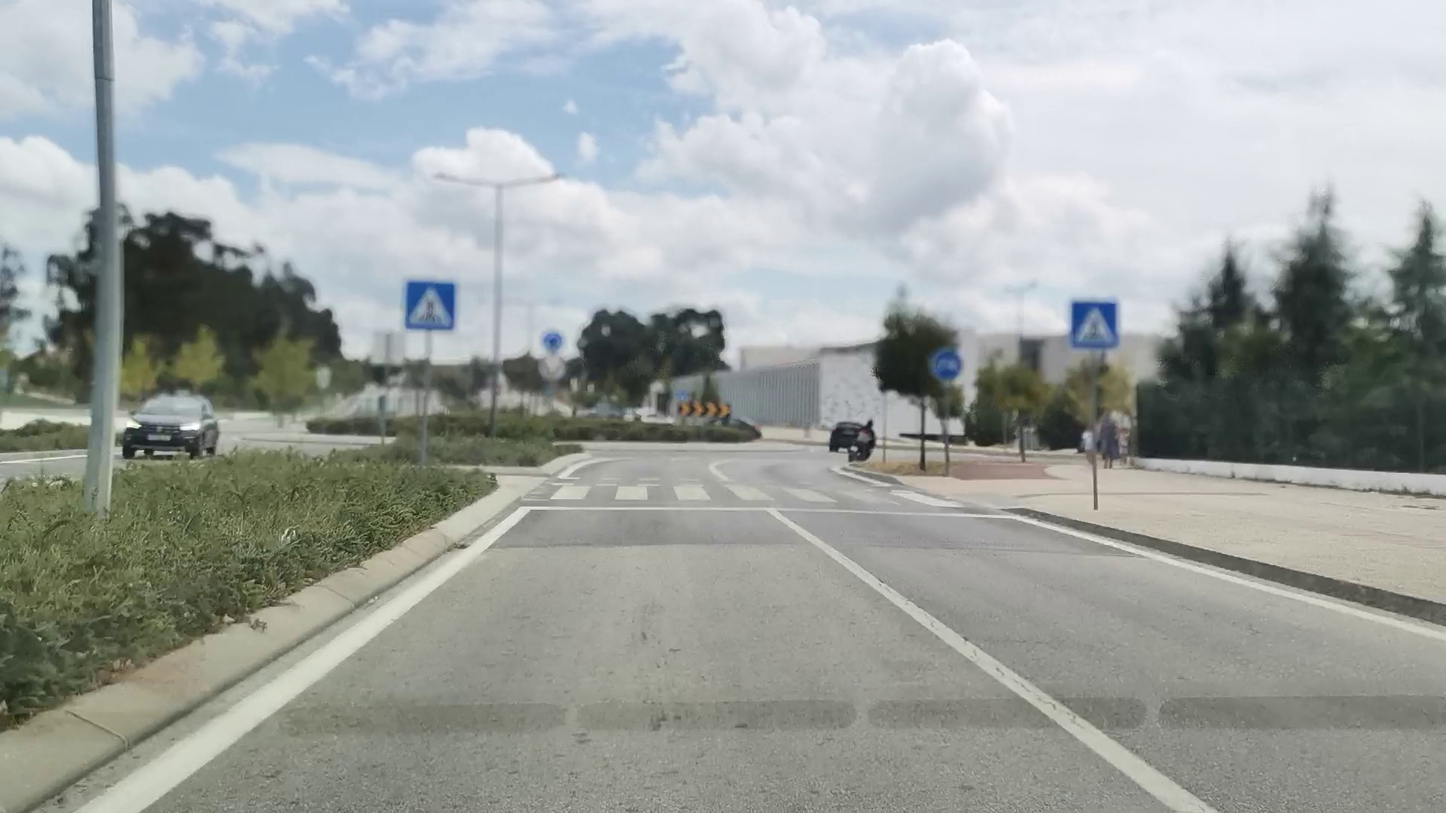Stairs: (554, 479, 967, 508)
